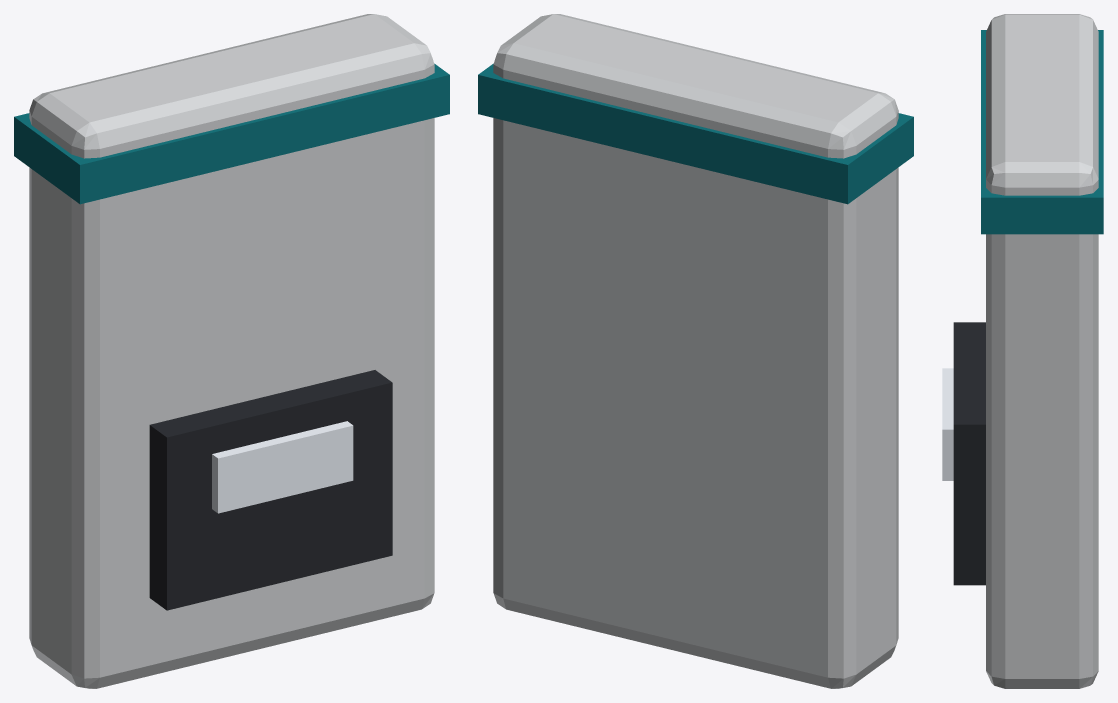
File: soporte-rayos.obj
3 views of the same model, side by side, from view 1: azimuth 30°, elevation 25°; view 2: azimuth 150°, elevation 25°; view 3: azimuth 270°, elevation 25° (orthographic). The views are drawn at different scales.
Visible parts, largest first — view 1: pieza_0, pieza_1, pieza_3, pieza_2; view 2: pieza_0, pieza_3; view 3: pieza_0, pieza_1, pieza_3, pieza_2.
Boxes of the visible parts, x1=… form: pieza_0: x1=29, y1=14, x2=434, y2=688; pieza_1: x1=149, y1=370, x2=392, y2=610; pieza_3: x1=14, y1=63, x2=449, y2=204; pieza_2: x1=212, y1=421, x2=353, y2=513; pieza_0: x1=493, y1=14, x2=898, y2=688; pieza_3: x1=478, y1=63, x2=913, y2=204; pieza_0: x1=986, y1=14, x2=1098, y2=688; pieza_1: x1=953, y1=322, x2=985, y2=585; pieza_3: x1=981, y1=30, x2=1103, y2=234; pieza_2: x1=942, y1=368, x2=953, y2=480.
Bounding box in the file's own units: 0.246 × 0.36 × 0.1.
